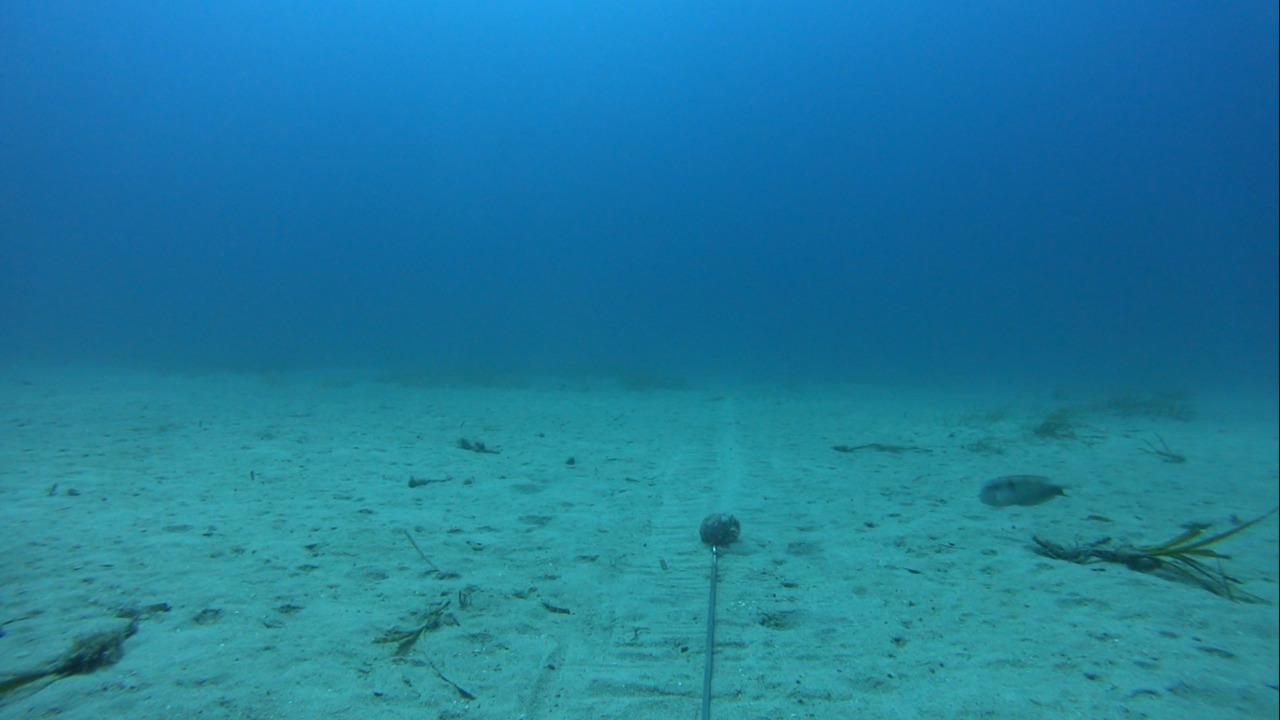raor: (969, 467, 1073, 514)
